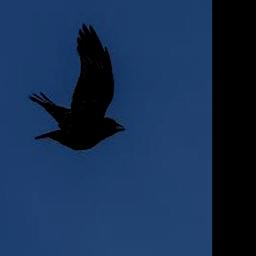Crow: (29, 24, 126, 149)
